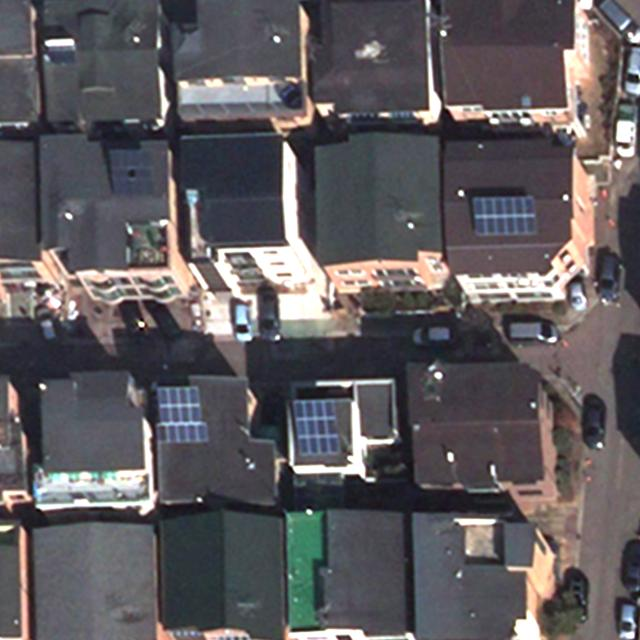panel: (150, 385, 210, 445), (288, 398, 341, 459), (468, 192, 539, 236), (106, 147, 155, 196)
